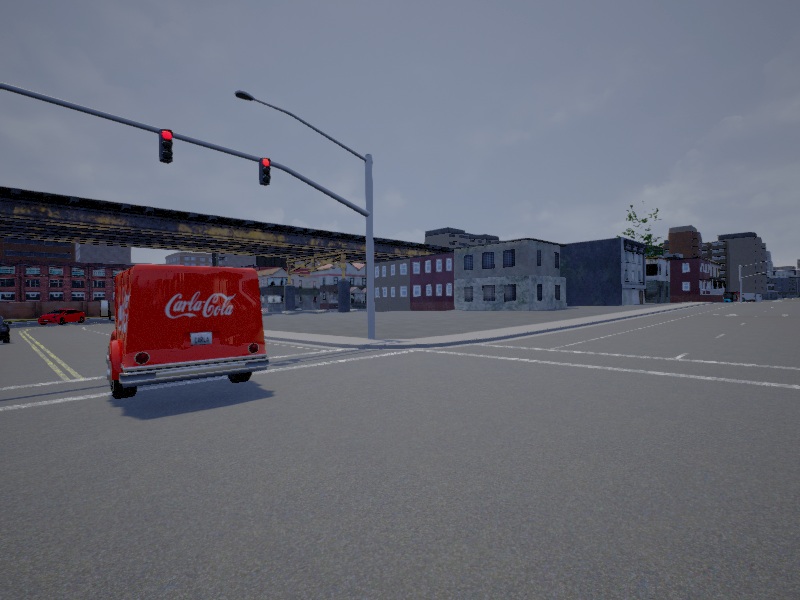Benign: (107, 266, 265, 396), (39, 308, 85, 327)
